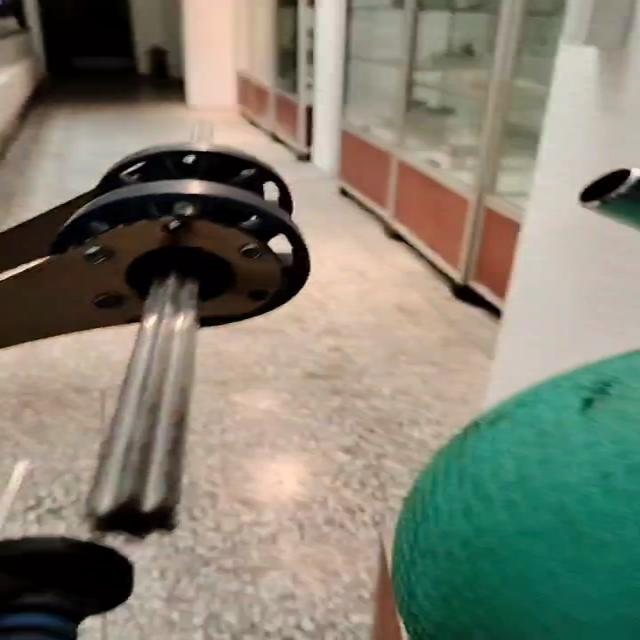ALGAE: (386, 337, 640, 640)
